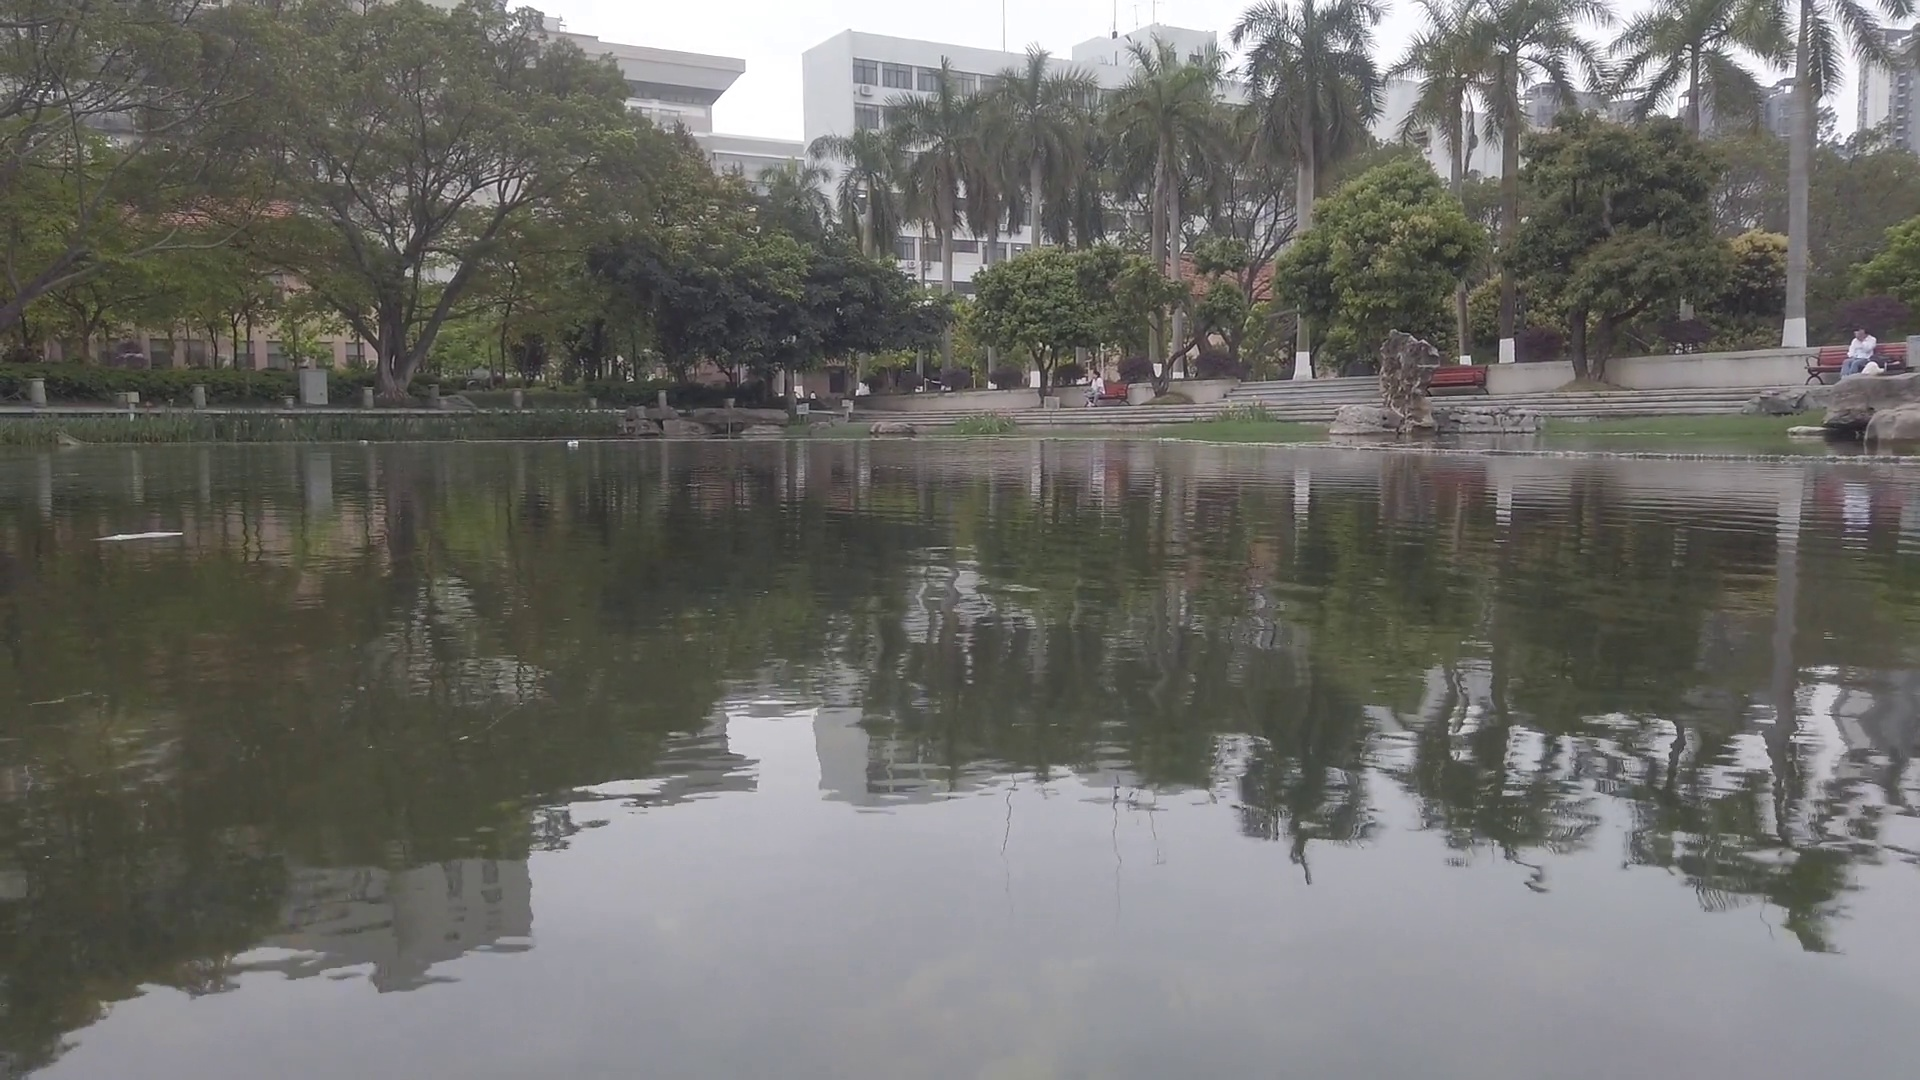bottle: (567, 439, 579, 446)
paper: (92, 524, 186, 549)
